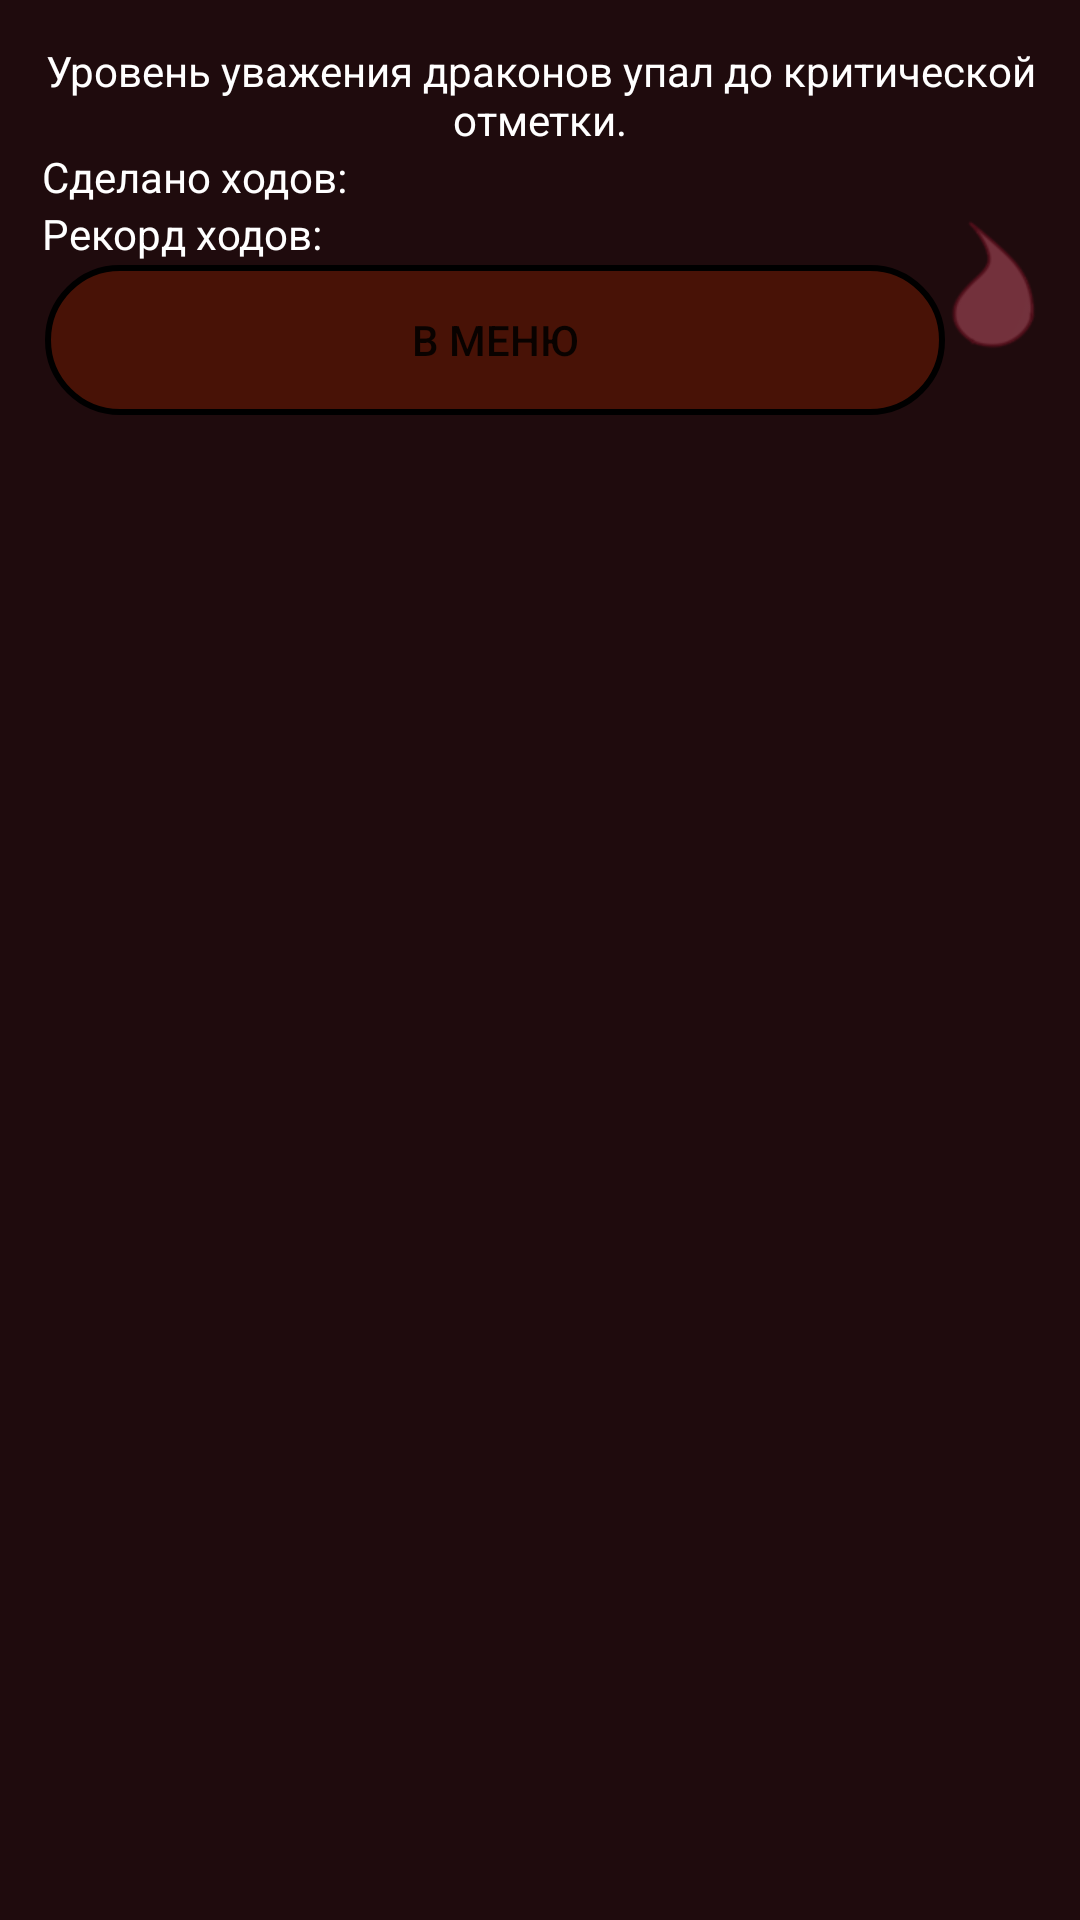

Locate icon controls on the screen. Image size 1080*1920, boxes as box=[x1, y1, x2, y2].
fire: box=[953, 223, 1034, 347]
